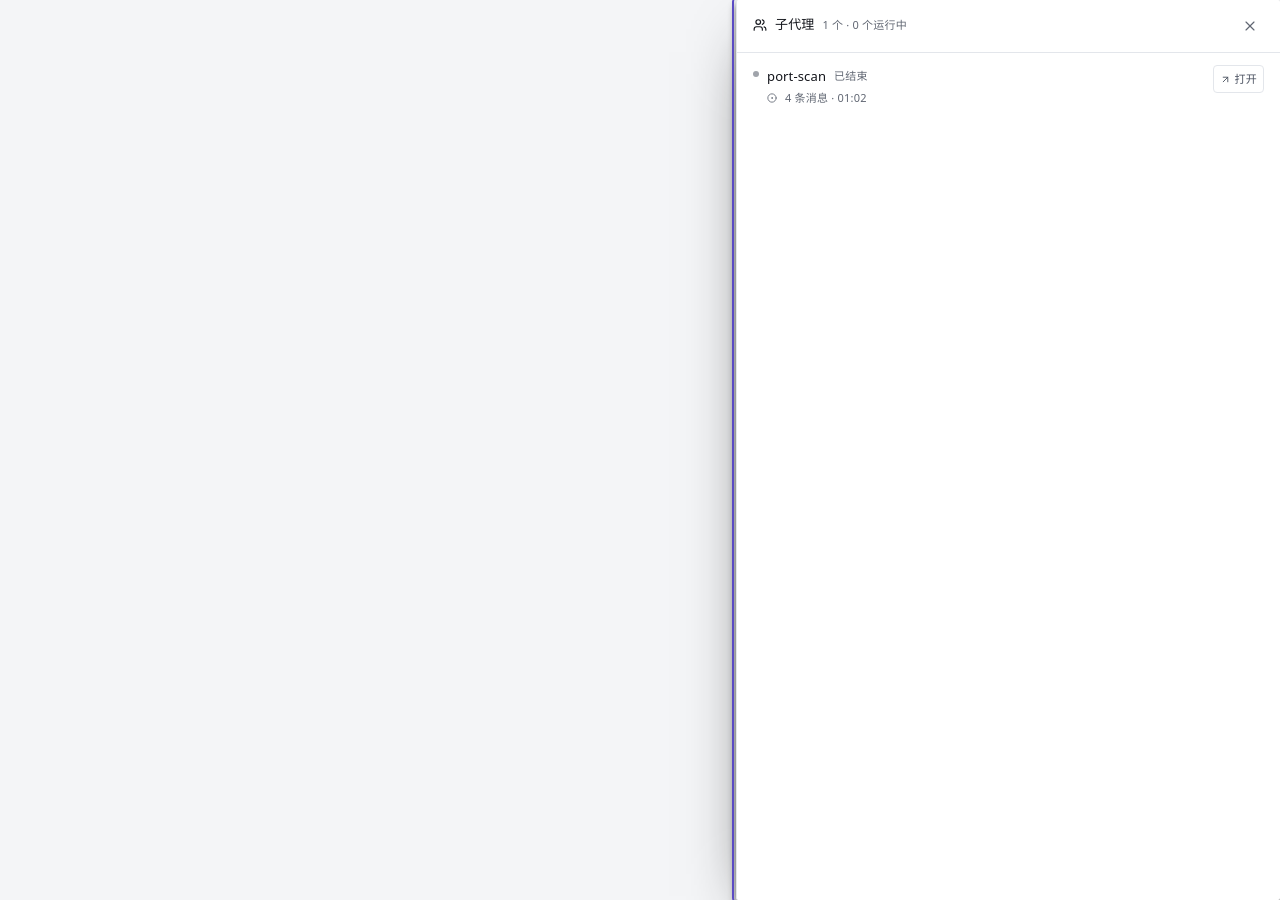
Test: AgentHub — 转录预览（v1.92） › 点名字展开最近转录，不离开主对话
Click the button "port-scan" at x=797, y=76, box [767,65,826,87]
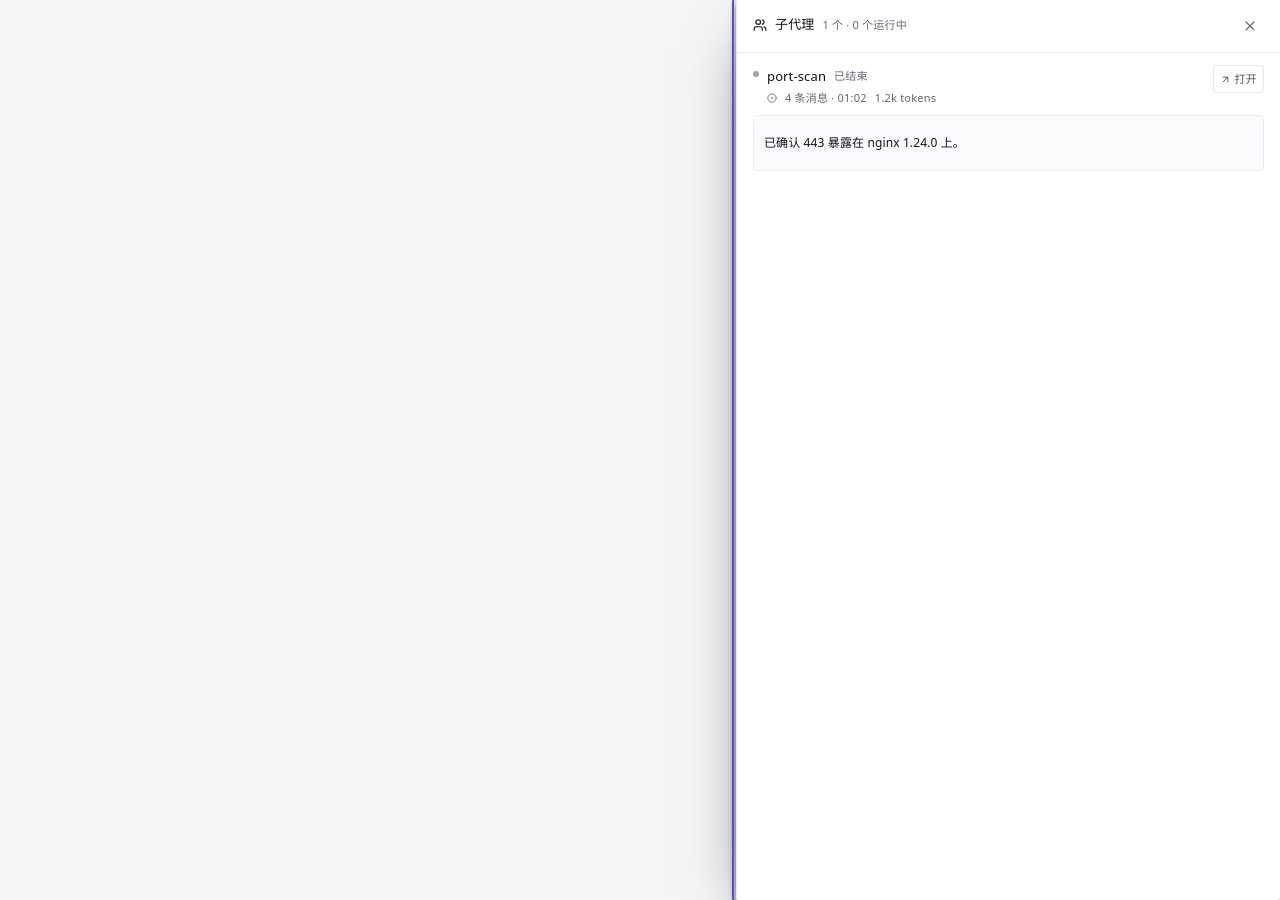
Expected: the text "已确认 443 暴露在 nginx 1.24.0 上。" is shown, [764,134,965,151]
